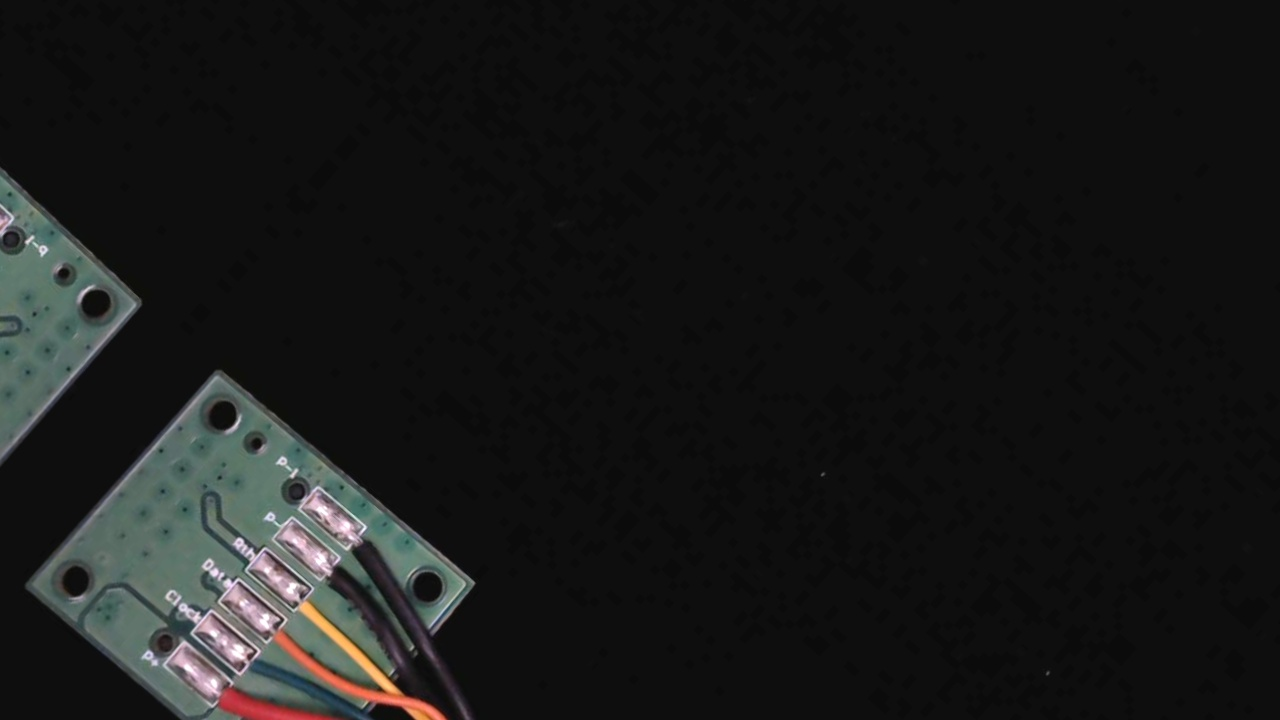Black: (304, 546, 382, 621)
Black1: (333, 513, 405, 583)
Green: (222, 638, 299, 711)
Orange: (252, 607, 329, 680)
Red: (200, 673, 277, 720)
Yellow: (276, 574, 355, 650)
